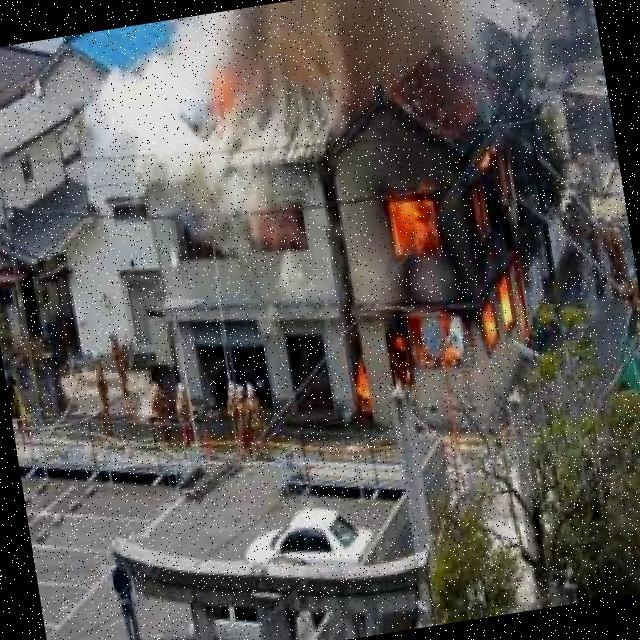Fire: (322, 129, 591, 405)
